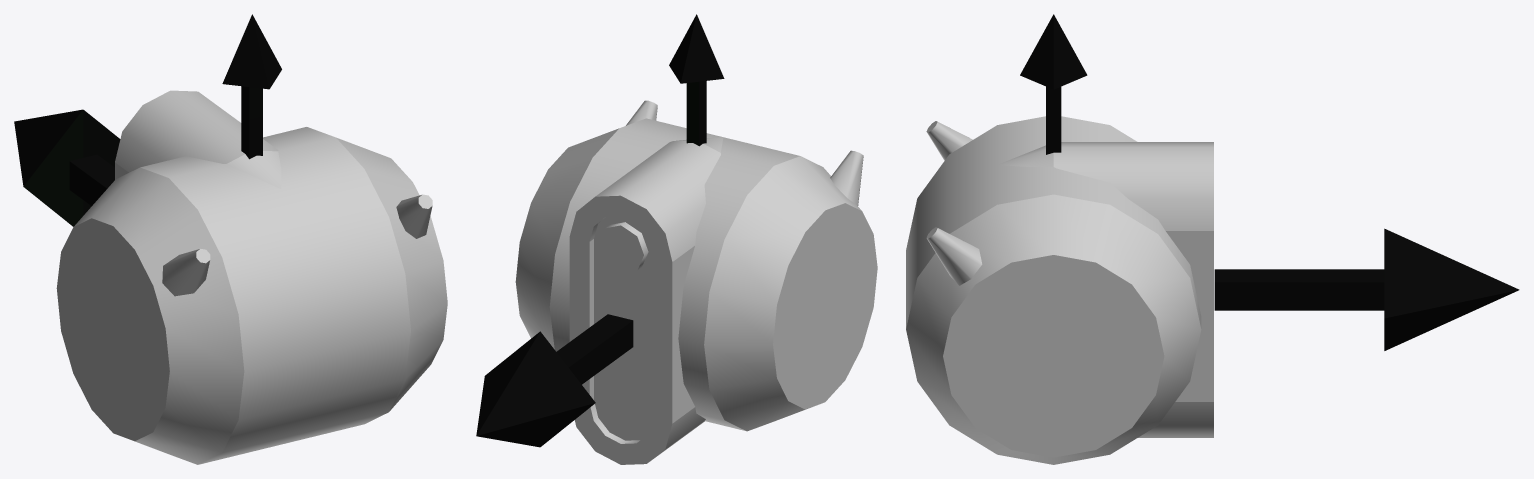
File: OrientationModule.fbx
The picture shows the model from 3 angles, left to right: view 1: azimuth 30°, elevation 25°; view 2: azimuth 150°, elevation 25°; view 3: azimuth 270°, elevation 25°; orthographic projection. The views are drawn at different scales.
Visible parts, largest first — view 1: OrientationModule; view 2: OrientationModule; view 3: OrientationModule.
Part boxes in pixels (<box>): OrientationModule: <box>14,14,447,464</box>; OrientationModule: <box>476,14,877,464</box>; OrientationModule: <box>906,14,1519,464</box>.
Size of the model in its own units: 1 by 1.95 by 1.47.
